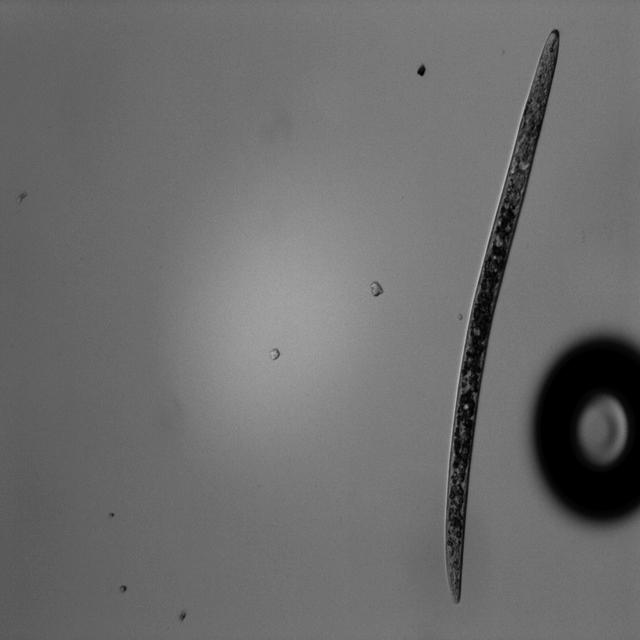Pratylenchus: (442, 24, 568, 612)
